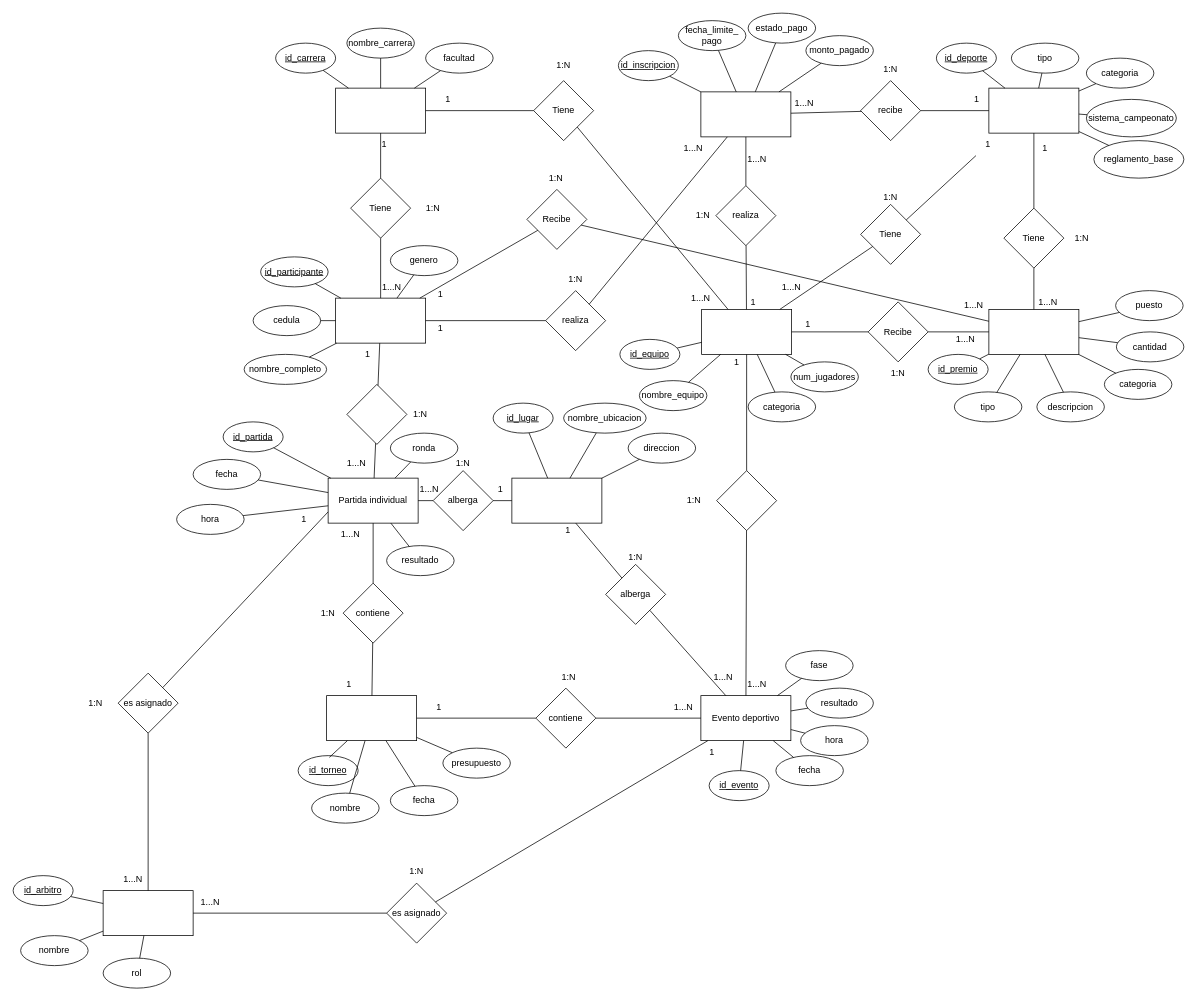
The diagram is 1197 pixels wide and 1001 high, and some of its shapes have lost their labels. Each missing label, with the box of its shape:
Arbitro: (102, 890, 193, 936)
Carrera: (335, 87, 426, 133)
Deporte: (988, 87, 1079, 133)
Equipo: (701, 309, 792, 354)
Inscripcion: (700, 91, 791, 137)
juega: (346, 384, 407, 444)
Lugar: (511, 477, 602, 523)
participa: (716, 470, 777, 531)
Participante: (335, 297, 426, 343)
Premio: (988, 309, 1079, 354)
Torneo: (326, 695, 417, 741)
